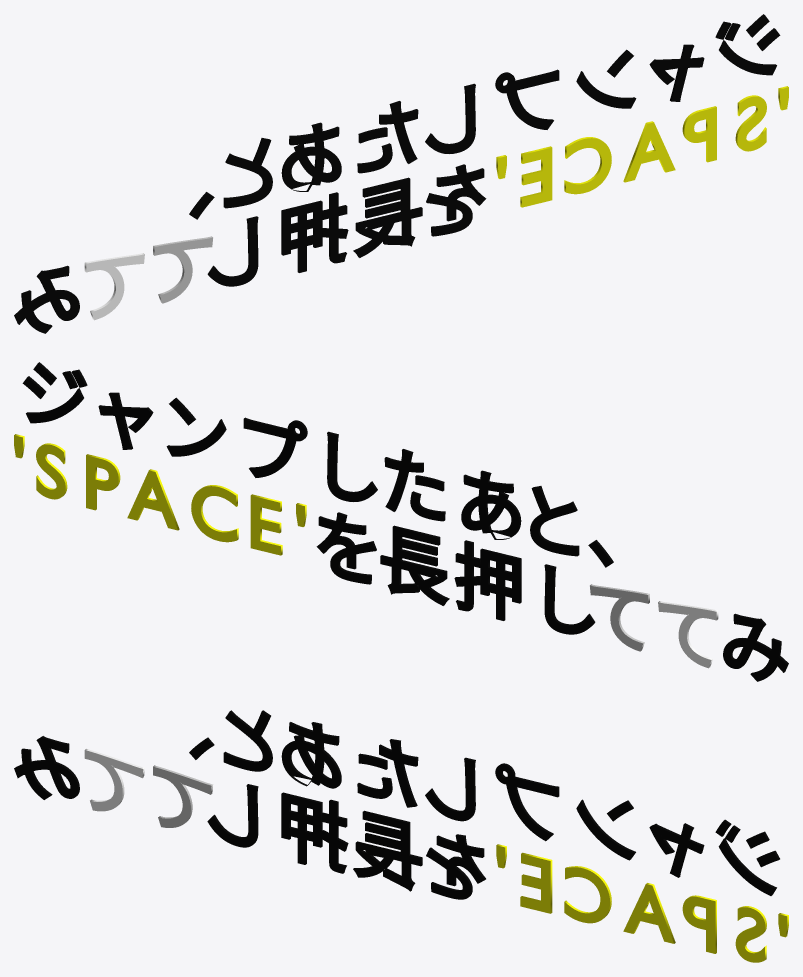
File: paratext2.obj
3 renders of one model, top to bottom at view 1: azimuth 30°, elevation 25°; view 2: azimuth 150°, elevation 25°; view 3: azimuth 330°, elevation 25°, orthographic.
Visible parts, largest first — view 1: Text.017, Text.018, Text.006, Text.016, Text.020, Text.005, Text, Text.003, Text.007, Text.013, Text.011, Text.021 (+8 smaller); view 2: Text.017, Text.018, Text.006, Text.016, Text.020, Text.005, Text, Text.003, Text.007, Text.013, Text.011, Text.021 (+8 smaller); view 3: Text.017, Text.018, Text.006, Text.016, Text.020, Text.005, Text.003, Text, Text.007, Text.013, Text.021, Text.011 (+8 smaller).
Boxes of the visible parts, <box> form: Text.017: <box>353,177,422,257</box>; Text.018: <box>281,192,348,272</box>; Text.006: <box>281,122,341,191</box>; Text.016: <box>426,164,486,236</box>; Text.020: <box>14,265,79,333</box>; Text.005: <box>357,101,418,173</box>; Text: <box>715,14,780,75</box>; Text.003: <box>495,69,559,129</box>; Text.007: <box>223,138,272,208</box>; Text.013: <box>520,146,552,207</box>; Text.011: <box>623,121,675,182</box>; Text.021: <box>84,253,144,320</box>; Text.017: <box>380,525,449,605</box>; Text.018: <box>454,540,521,620</box>; Text.006: <box>461,470,521,539</box>; Text.016: <box>316,512,376,584</box>; Text.020: <box>723,613,788,681</box>; Text.005: <box>384,449,445,521</box>; Text: <box>22,362,87,423</box>; Text.003: <box>243,417,307,477</box>; Text.007: <box>530,486,579,556</box>; Text.013: <box>250,494,282,555</box>; Text.011: <box>127,469,179,530</box>; Text.021: <box>658,601,718,668</box>; Text.017: <box>353,810,422,891</box>; Text.018: <box>281,792,348,873</box>; Text.006: <box>281,722,341,788</box>; Text.016: <box>426,834,485,899</box>; Text.020: <box>14,736,79,799</box>; Text.005: <box>357,739,418,807</box>; Text.003: <box>495,763,559,841</box>; Text: <box>715,819,779,895</box>; Text.007: <box>223,710,272,771</box>; Text.013: <box>520,852,552,913</box>; Text.021: <box>84,749,144,811</box>; Text.011: <box>623,883,675,943</box>.
Bounding box in the file's own units: 11.07 × 2.05 × 0.04.
